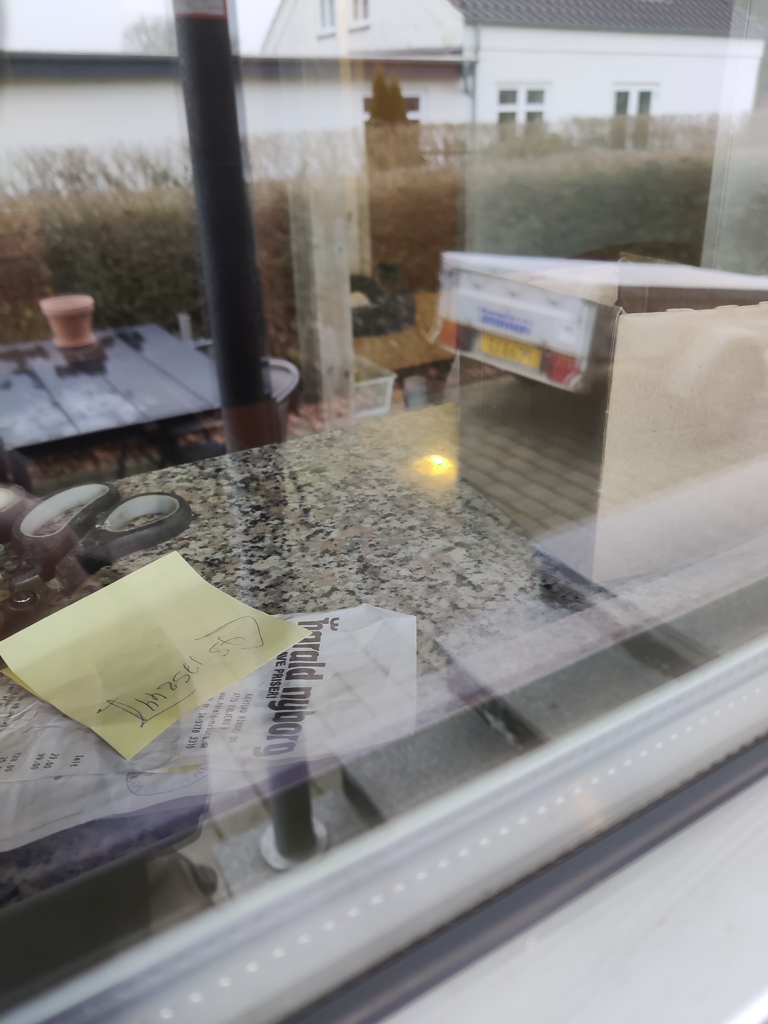Dog: (343, 259, 407, 312)
